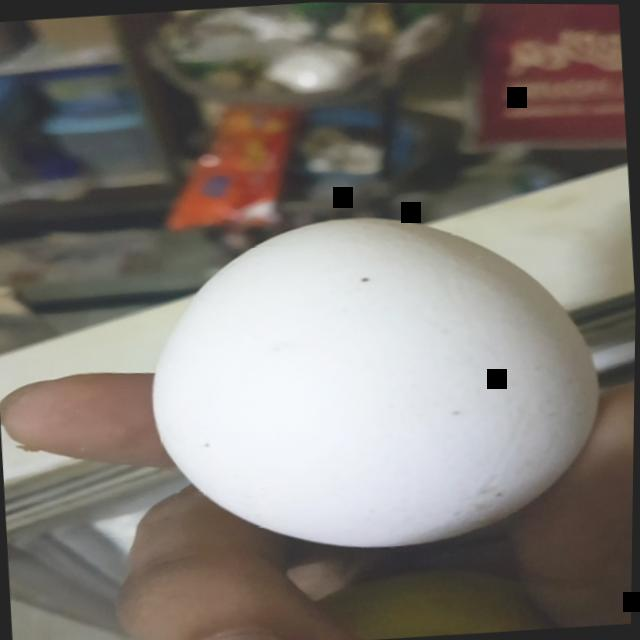eggs: (123, 194, 617, 555)
